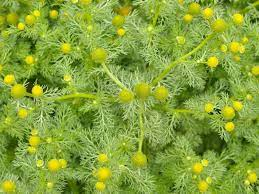pineple: (109, 28, 177, 90)
